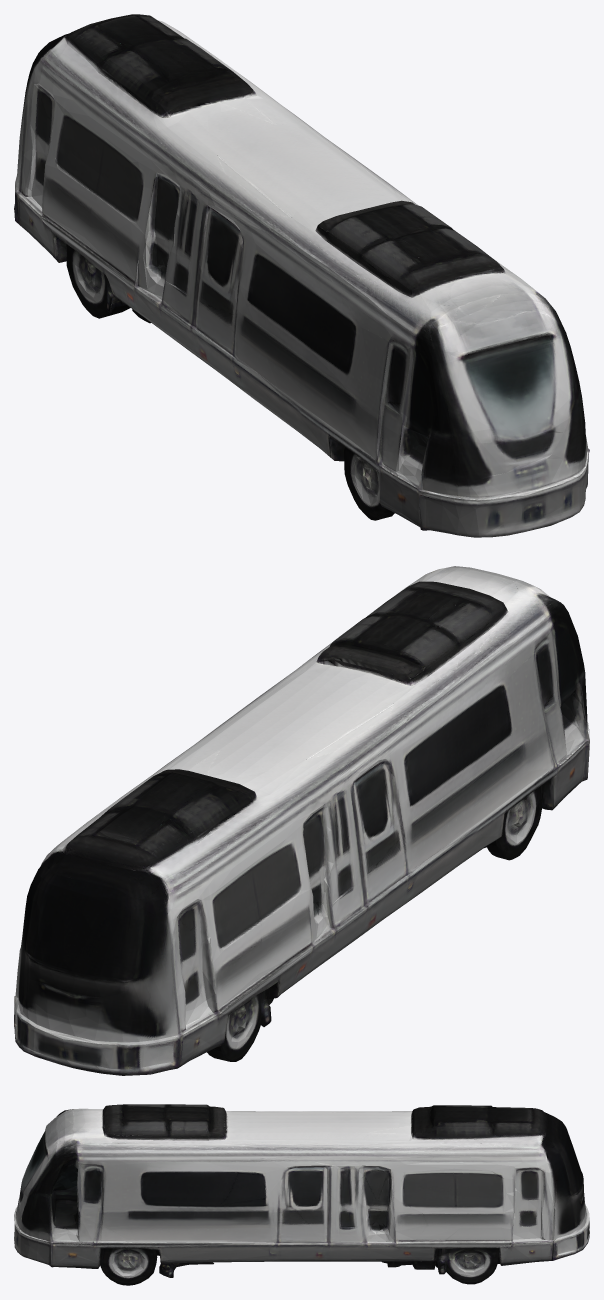
Rendered from vox.glb.
3 views of the same model, one above another, from view 1: azimuth 30°, elevation 25°; view 2: azimuth 150°, elevation 25°; view 3: azimuth 270°, elevation 25° (orthographic). The views are drawn at different scales.
Visible parts, largest first — view 1: world; view 2: world; view 3: world.
Part boxes in pixels (box(x1,y1,x2,y2)): world: box(14, 14, 589, 537); world: box(14, 566, 589, 1075); world: box(14, 1104, 589, 1285).
Bounding box in the file's own units: 0.2216 × 0.2908 × 1.
1 material, 1 textured.
